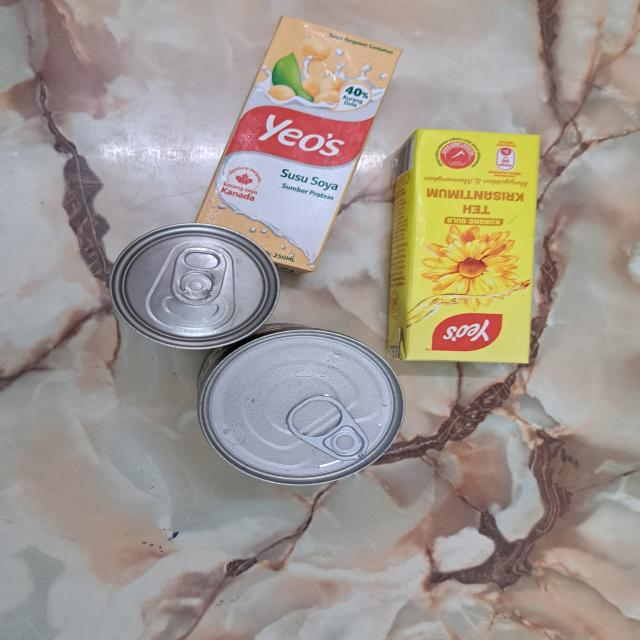can: (193, 322, 404, 486), (111, 223, 282, 352)
drink carton: (193, 14, 402, 276), (385, 129, 542, 364)
pop tab: (286, 395, 371, 460), (170, 247, 228, 305)
